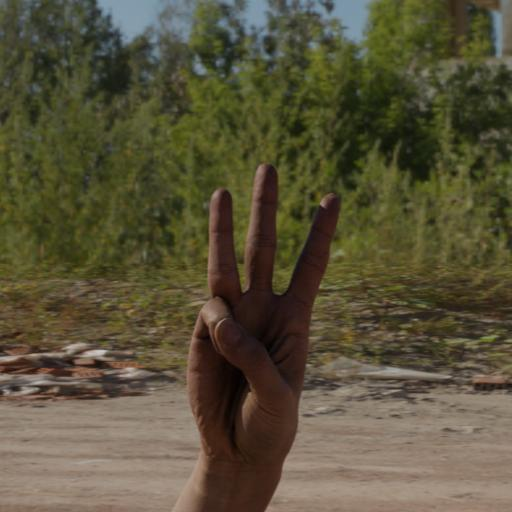W: (185, 156, 347, 462)
